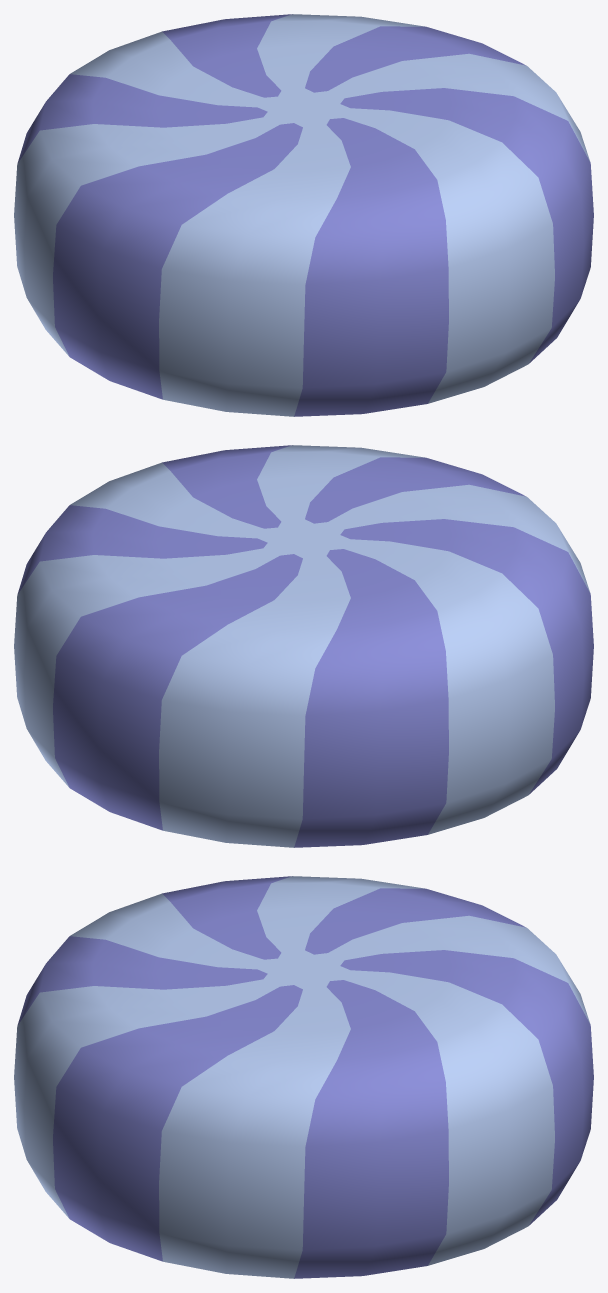
Rendered from Candy_A_02.fbx.
3 renders of one model, top to bottom at view 1: azimuth 30°, elevation 25°; view 2: azimuth 150°, elevation 25°; view 3: azimuth 270°, elevation 25°, orthographic.
Parts seen in each view (by area): view 1: Candy_A_02_LOD0; view 2: Candy_A_02_LOD0; view 3: Candy_A_02_LOD0.
Boxes of the visible parts, x1,y1,x2,y2 form: Candy_A_02_LOD0: (14, 14, 593, 416); Candy_A_02_LOD0: (14, 445, 593, 847); Candy_A_02_LOD0: (14, 876, 593, 1278).
Size of what is drawn, in the model's own units: 306 by 125 by 306.
